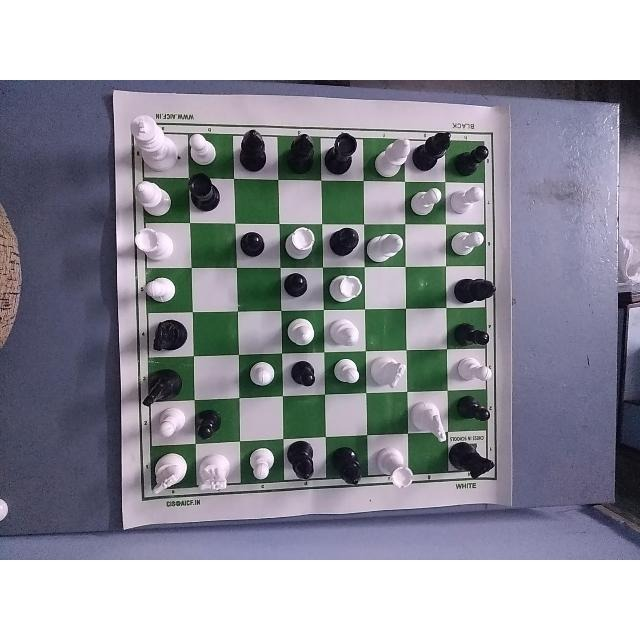black-bishop: (233, 118, 279, 178), (411, 125, 456, 177), (284, 125, 320, 183), (284, 440, 320, 486), (333, 440, 365, 488), (451, 275, 498, 307), (328, 223, 361, 262)
black-knight: (446, 435, 497, 476), (141, 366, 181, 408), (147, 315, 187, 355)
black-pawn: (452, 394, 496, 430), (448, 139, 493, 174), (188, 408, 227, 445), (280, 268, 315, 302), (288, 360, 323, 394), (240, 222, 268, 264), (451, 322, 493, 348)
black-rook: (321, 127, 363, 174), (187, 173, 223, 215)
white-bishop: (131, 177, 180, 221), (369, 133, 415, 177), (327, 319, 366, 355), (284, 316, 322, 352), (368, 225, 403, 264)
white-king: (124, 112, 183, 176)
white-knight: (408, 396, 450, 444), (146, 450, 188, 497), (194, 450, 230, 496), (371, 354, 408, 394)
white-pawn: (184, 130, 220, 170), (141, 270, 179, 306), (451, 356, 493, 388), (247, 446, 279, 484), (410, 186, 443, 222), (331, 358, 365, 391), (156, 405, 182, 444), (448, 185, 484, 213), (449, 227, 485, 254), (246, 362, 280, 390)
white-rook: (375, 446, 415, 488), (281, 225, 320, 261), (133, 227, 175, 260), (331, 273, 368, 307)
